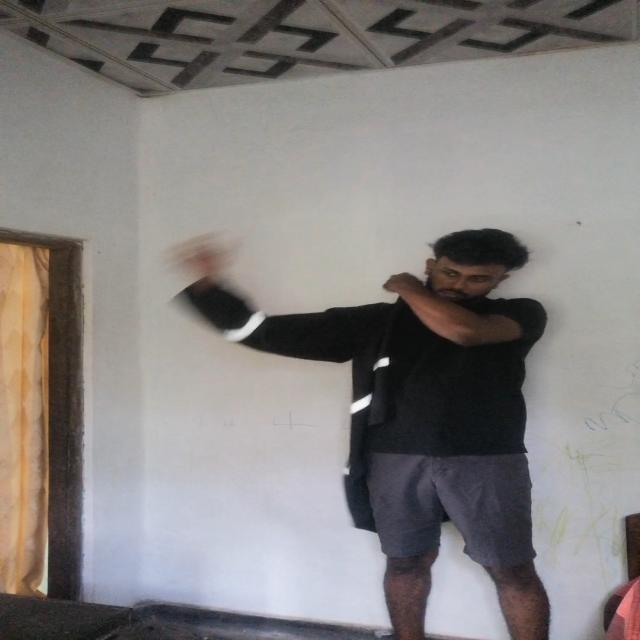Jacket_Wearer: (206, 289, 468, 458)
